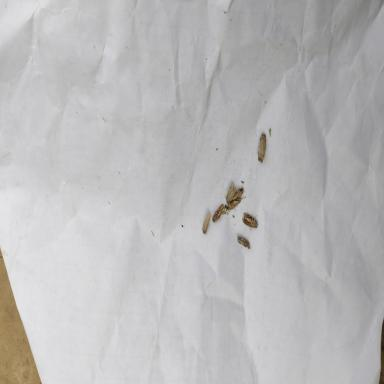pbw: (226, 196, 246, 213), (212, 202, 226, 222), (257, 132, 266, 163), (242, 212, 258, 228), (200, 213, 212, 233), (225, 182, 236, 203), (237, 234, 250, 250), (232, 186, 244, 200)
